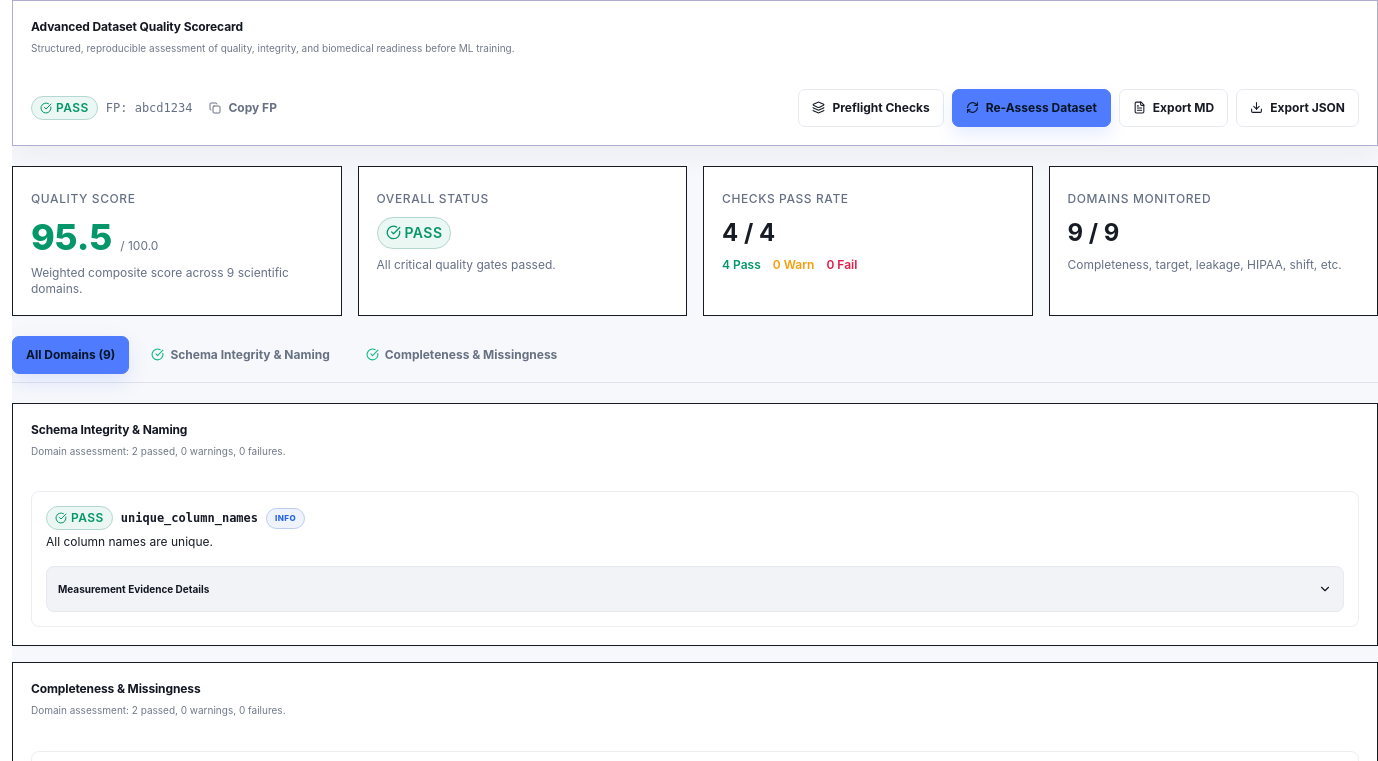
Test case: Dataset Quality Scorecard UI › renders preflight diagnostics against the backend response shape
The image size is (1378, 761).
Expected: the text "95.5" is shown, left=31, top=216, right=112, bottom=256
Click the button "Preflight Checks". click: x=871, y=108
box: left=798, top=88, right=944, bottom=126
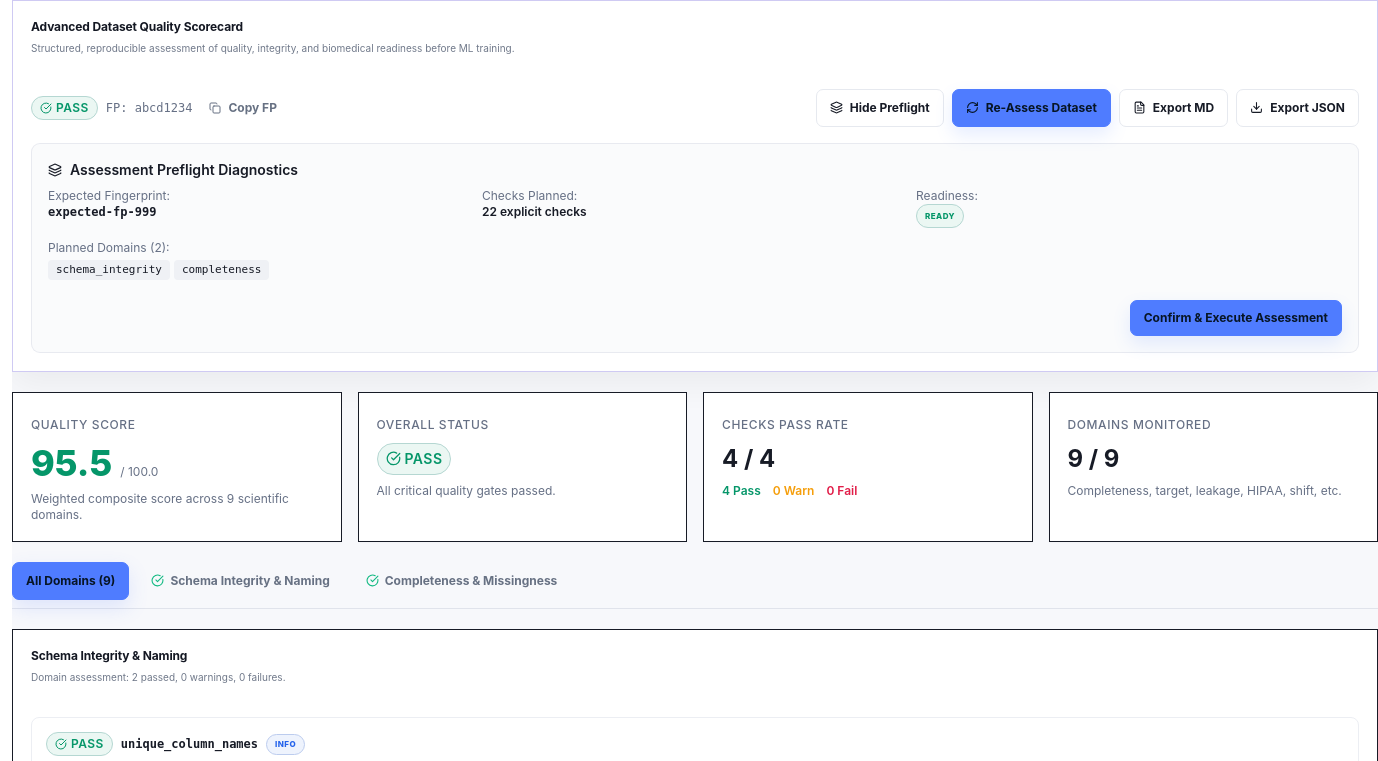
Expected: the heading "Assessment Preflight Diagnostics" is shown, left=48, top=160, right=298, bottom=178
Expected: the text "expected-fp-999" is shown, left=48, top=204, right=156, bottom=218
Expected: the text "22 explicit checks" is shown, left=482, top=204, right=587, bottom=218
